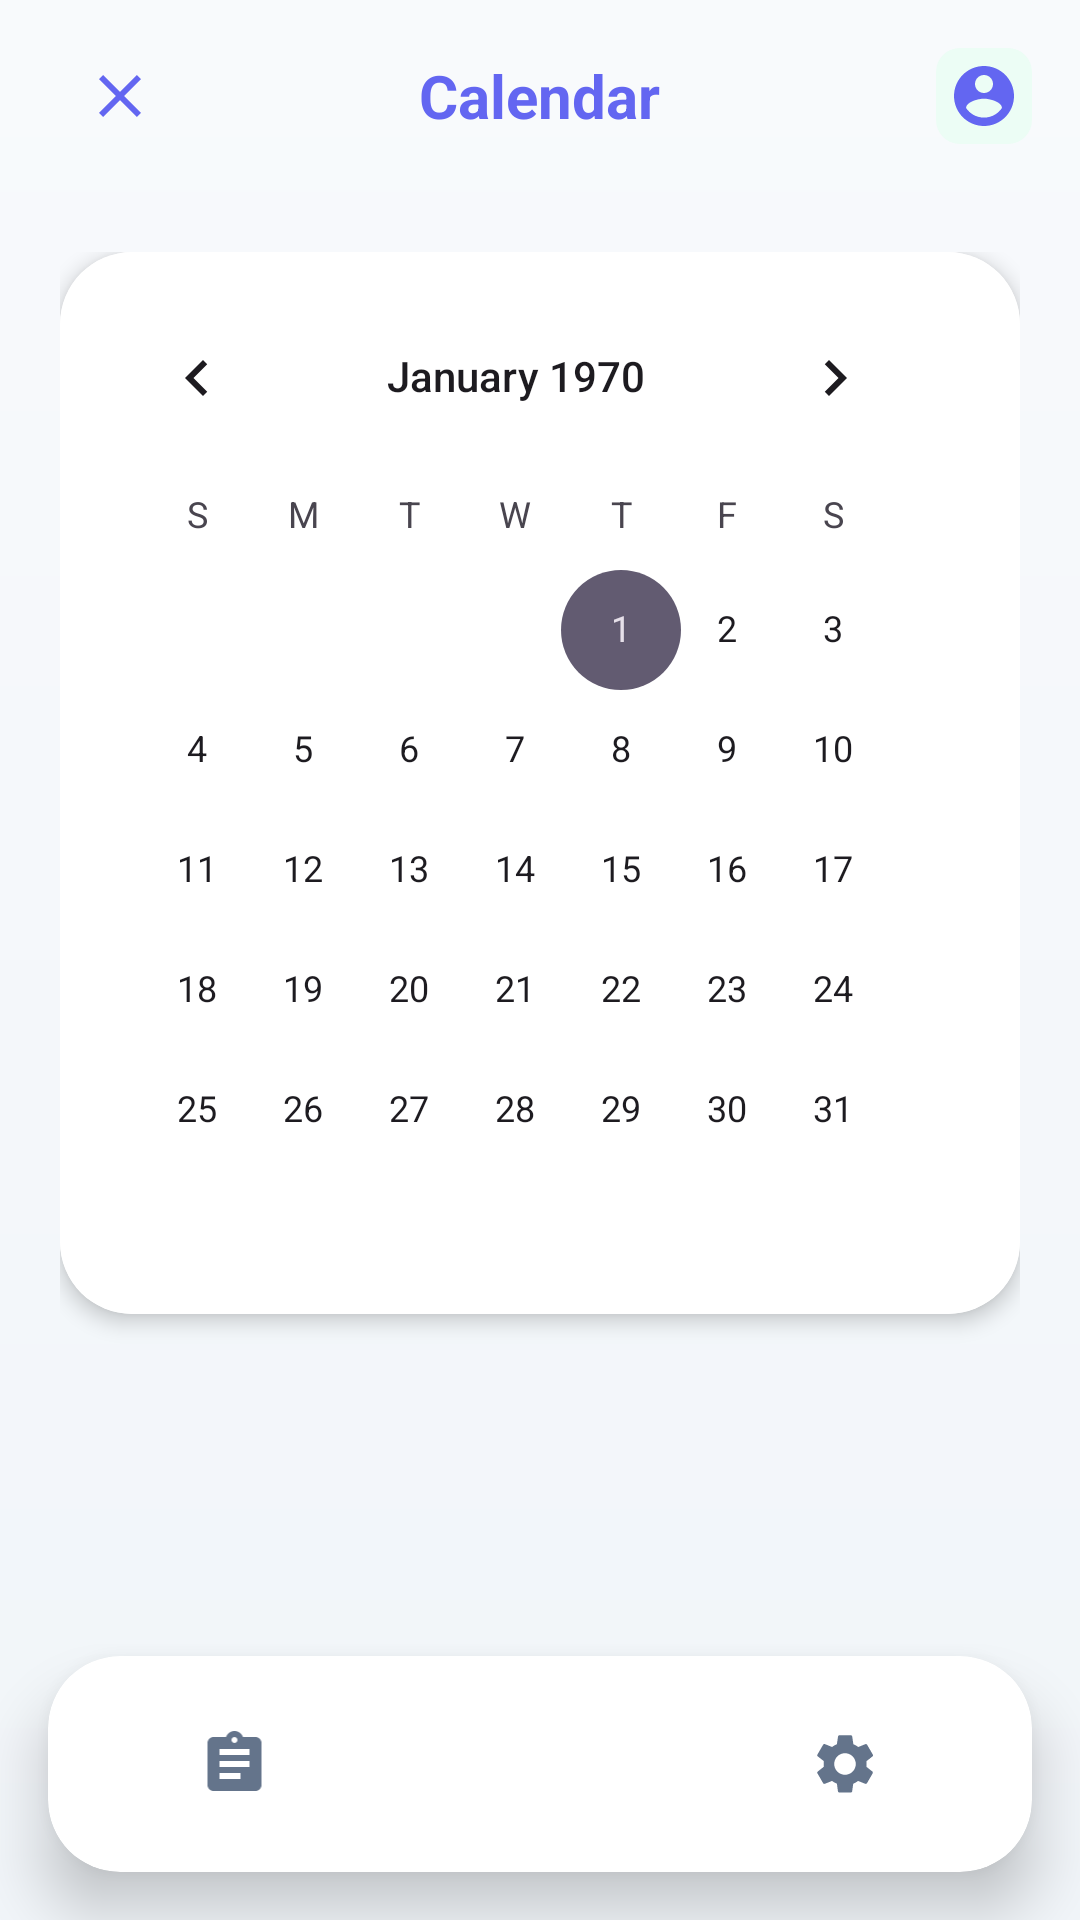

Where to tap for icons on this 1080*1920 app screen, as [x,y]:
account: [984,96]
close: [120,96]
settings: [845,1764]
tasks: [234,1761]
